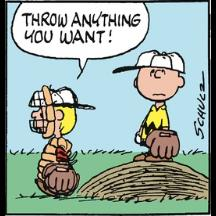charlie: (133, 50, 186, 162)
